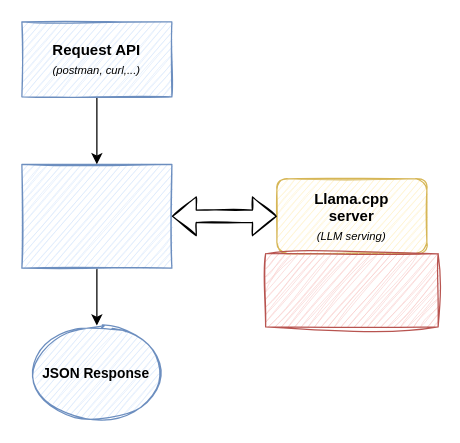
The diagram is 460 pixels wide and 443 high, and some of its shapes have lost their labels. Here are the shapes that lost their labels. From the top down, the centre of each, then its label:
the point at 96,215: Chatbot service (FastAPI)
the point at 351,289: NexusRavenV2
